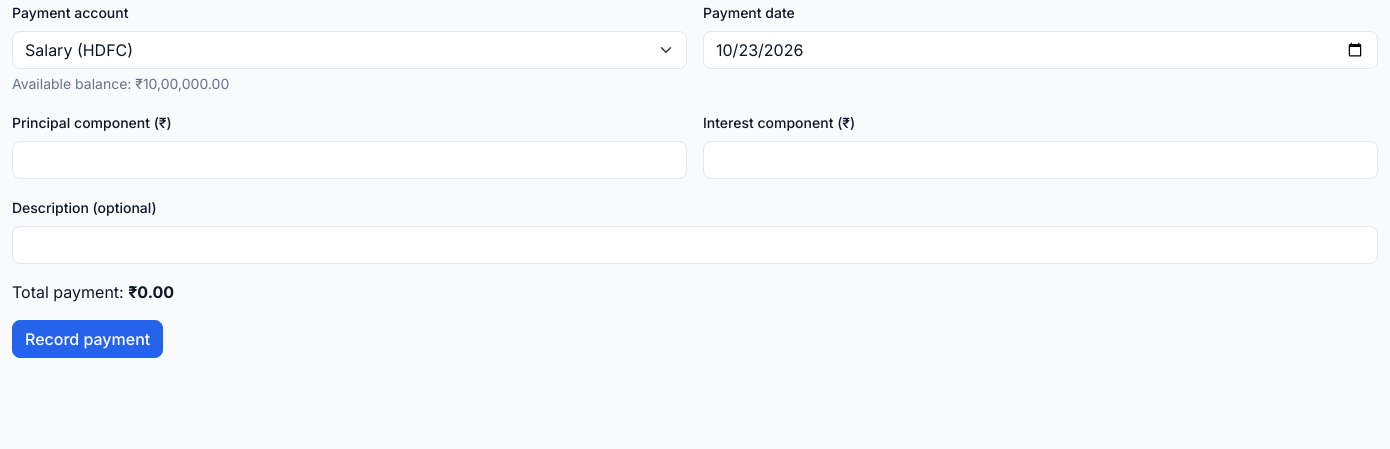
RecordLoanPaymentForm › displays a backend error
The width and height of the screenshot is (1390, 449).
Step 1. Type "6380" into the number field labelled "Principal component (₹)" → (350, 160), box [12, 141, 687, 179]
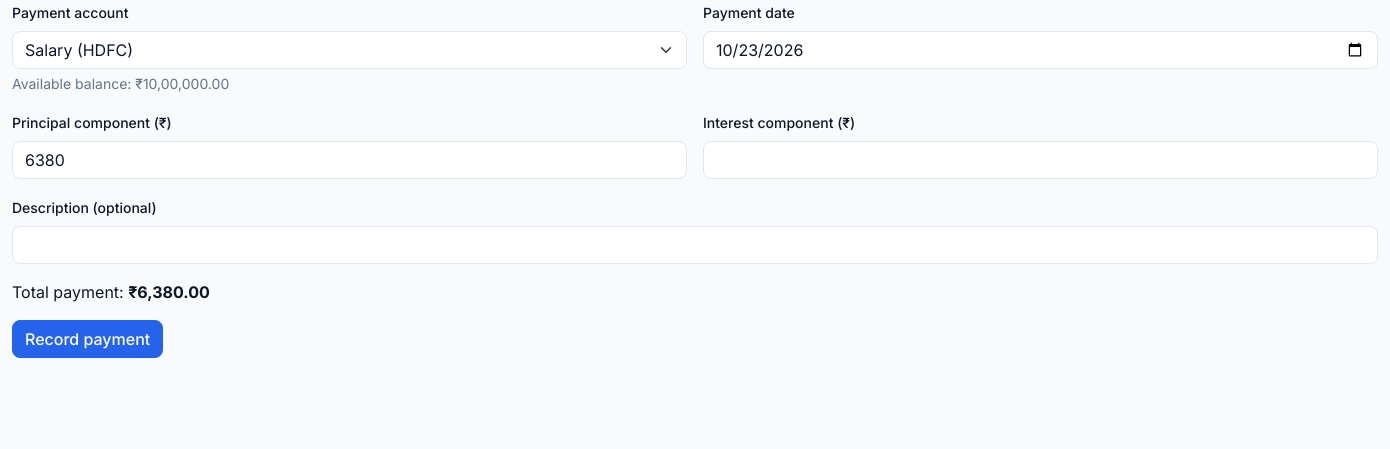
Step 2. Type "4000" into the number field labelled "Interest component (₹)" → (1040, 160), box [703, 141, 1378, 179]
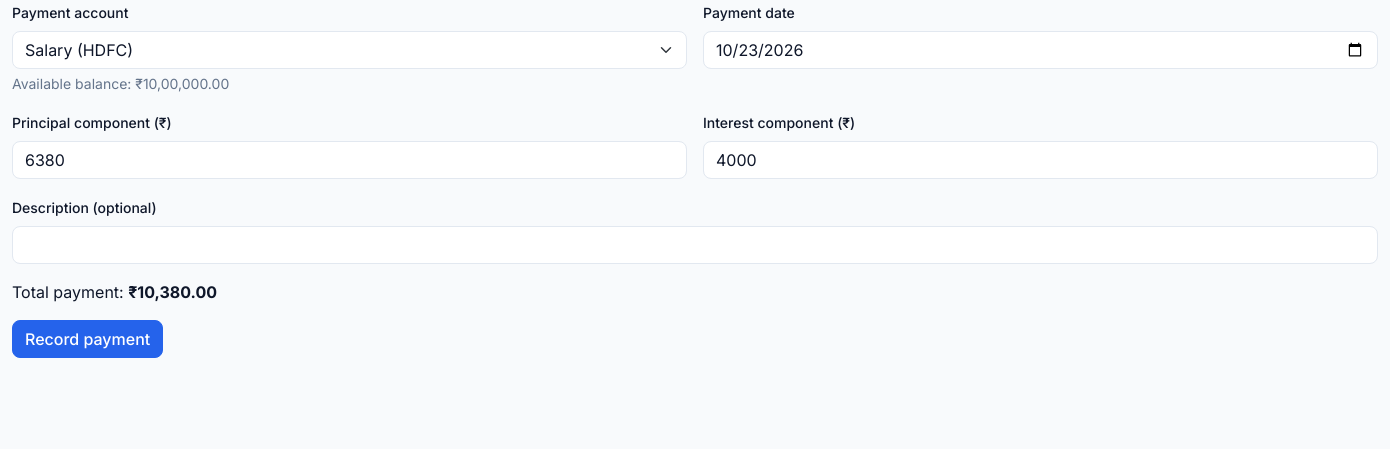
Step 3. Click the button "Record payment" → (88, 339), box [12, 320, 163, 358]
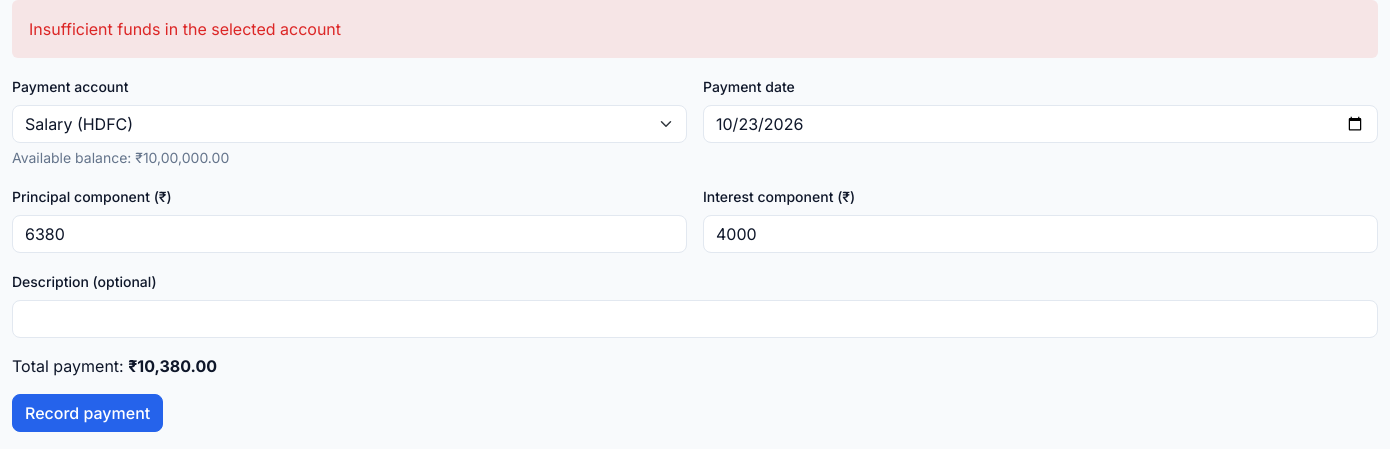
Check: the text "Insufficient funds in the selected account" is shown, box [12, 0, 1378, 58]
